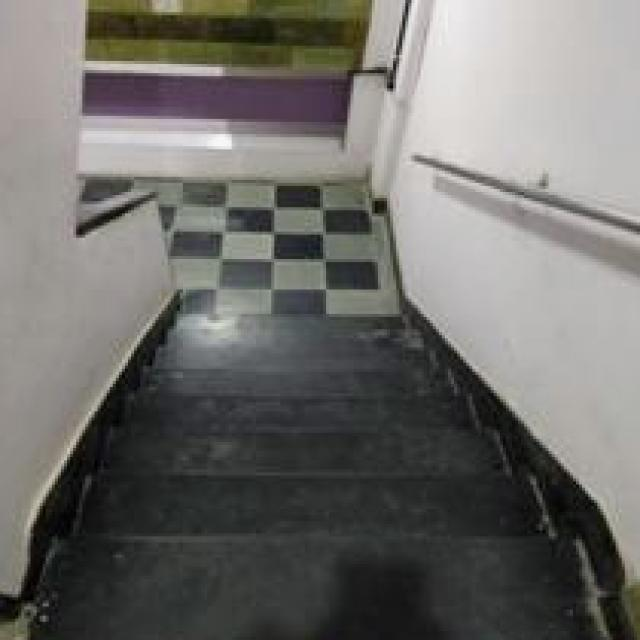downstair: (50, 440, 559, 617)
